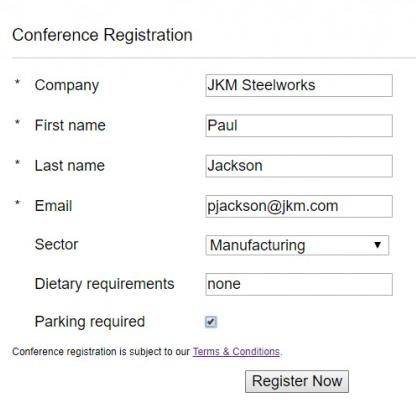button: (243, 369, 351, 393)
checkbox: (203, 314, 217, 331)
checkbox_with_label: (34, 313, 219, 332)
field: (204, 112, 394, 139), (204, 192, 394, 219), (202, 153, 393, 179), (204, 271, 394, 297), (204, 73, 394, 98), (204, 234, 389, 256)
field_with_label: (33, 191, 396, 221), (34, 111, 396, 140), (36, 270, 396, 298), (32, 153, 396, 180), (35, 72, 396, 98), (35, 232, 392, 257)
